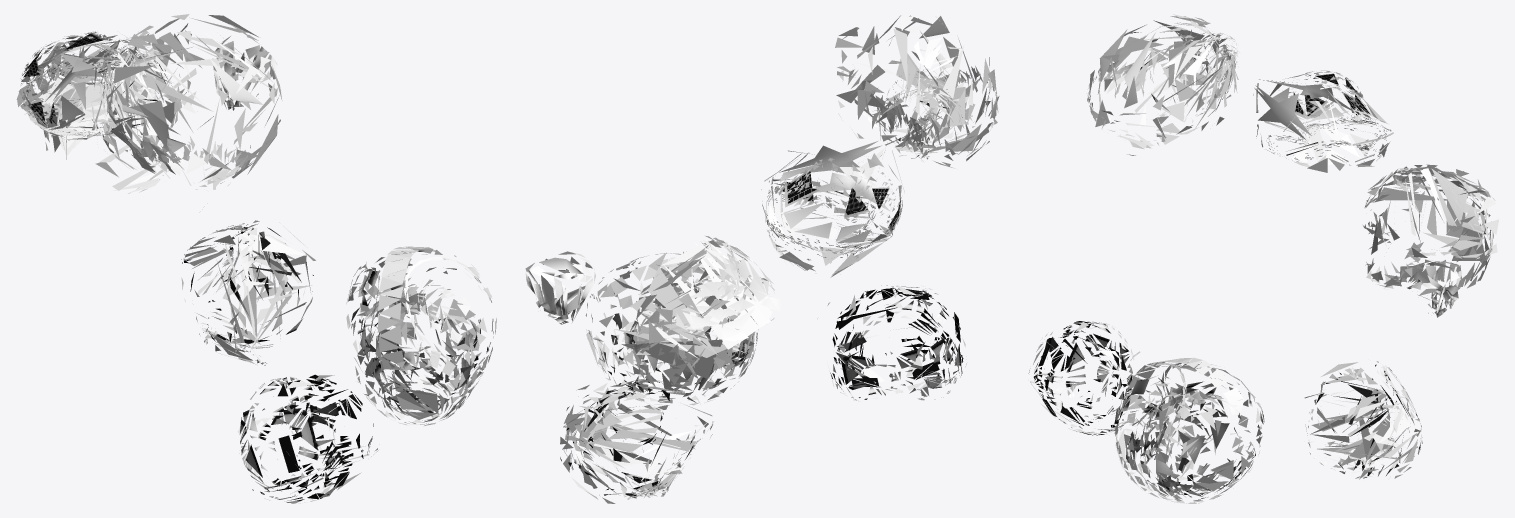
3 views of the same model, side by side, from view 1: azimuth 30°, elevation 25°; view 2: azimuth 150°, elevation 25°; view 3: azimuth 270°, elevation 25° (orthographic). The views are drawn at different scales.
Parts seen in each view (by area): view 1: Zeppelin, Headphones, Rocket.003, VR Headset, Table, Notebook, Roundcube.001; view 2: Table, Zeppelin, Notebook, Rocket.003, VR Headset, Headphones, Roundcube.001; view 3: Headphones, Zeppelin, Table, Notebook, Rocket.003, VR Headset, Roundcube.001.
Part boxes in pixels (x1,y1,x2,y2): Zeppelin: (91,14,282,189); Headphones: (346,246,496,426); Rocket.003: (181,220,315,365); VR Headset: (237,374,378,503); Table: (16,30,190,193); Notebook: (20,31,172,140); Roundcube.001: (212,35,277,110); Table: (613,236,782,390); Zeppelin: (835,15,999,168); Notebook: (761,141,904,277); Rocket.003: (560,379,714,503); VR Headset: (817,285,966,401); Headphones: (585,253,758,405); Roundcube.001: (525,251,595,324); Headphones: (1115,357,1264,503); Zeppelin: (1087,14,1240,155); Table: (1363,164,1498,299); Notebook: (1253,70,1393,172); Rocket.003: (1304,361,1422,480); VR Headset: (1028,321,1140,435); Roundcube.001: (1399,259,1461,317).
Bounding box in the file's own units: 11.37 × 12.75 × 13.94.
Materials: 7 (7 with a texture image).
